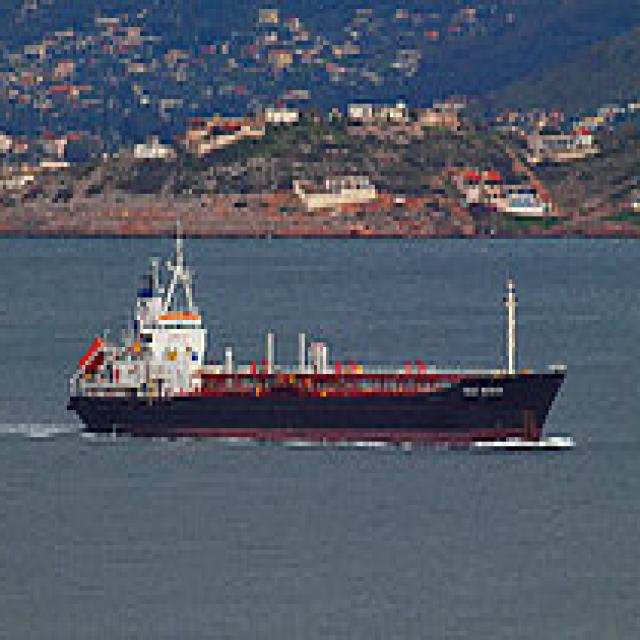Tanker: (67, 208, 576, 438)
